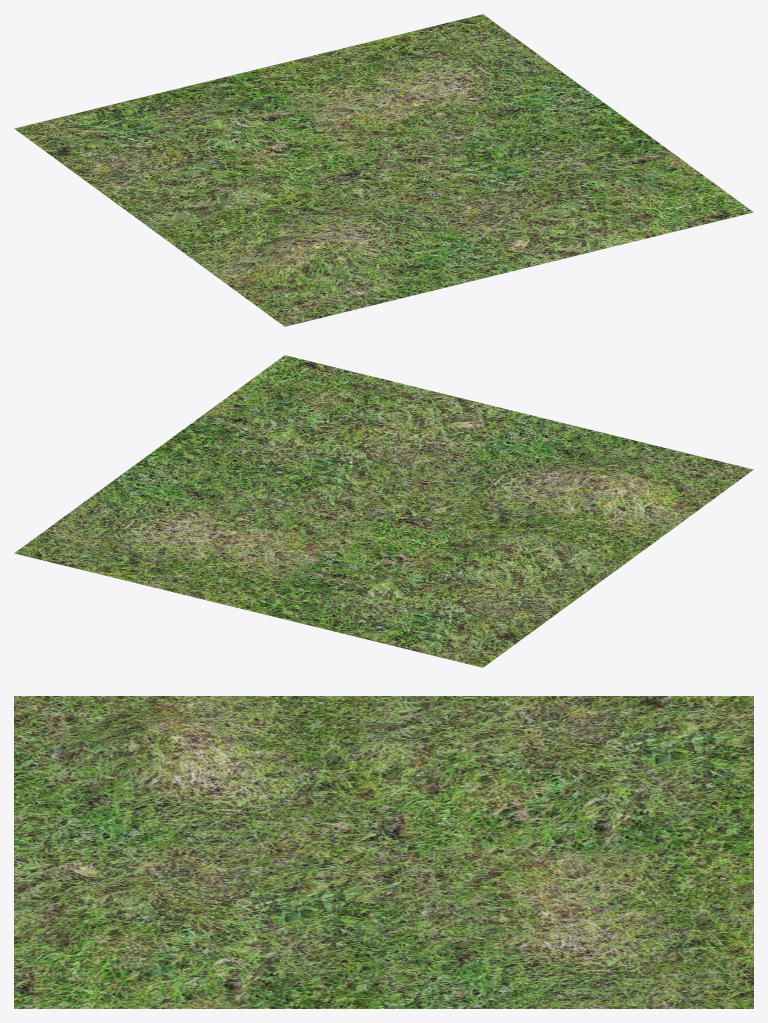
Rendered from terrain.obj.
The picture shows the model from 3 angles, top to bottom: view 1: azimuth 30°, elevation 25°; view 2: azimuth 150°, elevation 25°; view 3: azimuth 270°, elevation 25°; orthographic projection. The views are drawn at different scales.
Visible parts, largest first — view 1: Plane; view 2: Plane; view 3: Plane.
Part boxes in pixels (box(x1,y1,x2,y2)): Plane: box(14, 14, 753, 326); Plane: box(14, 355, 753, 667); Plane: box(14, 696, 753, 1008).
Bounding box in the file's own units: 100 × 3 × 100.
1 material, 1 textured.
